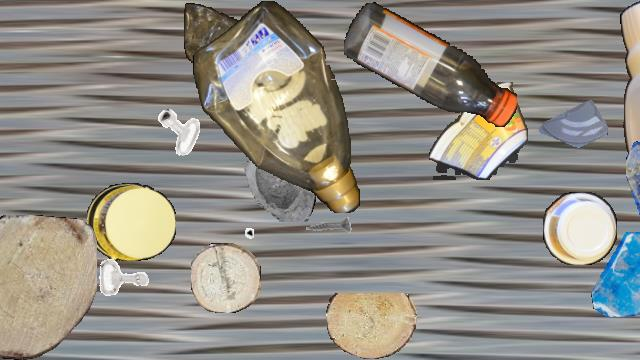glass: (229, 132, 319, 222), (539, 93, 607, 161), (589, 232, 640, 316), (626, 130, 640, 224)
metal: (93, 247, 155, 309), (301, 204, 353, 256), (204, 199, 254, 249), (155, 107, 203, 155), (0, 196, 5, 256)
plastic: (193, 1, 361, 213), (344, 1, 516, 129), (429, 82, 527, 180), (618, 1, 640, 357), (87, 183, 175, 261), (543, 192, 617, 264), (184, 1, 258, 71)
wood: (0, 215, 97, 359), (326, 293, 416, 359), (191, 243, 261, 313)
